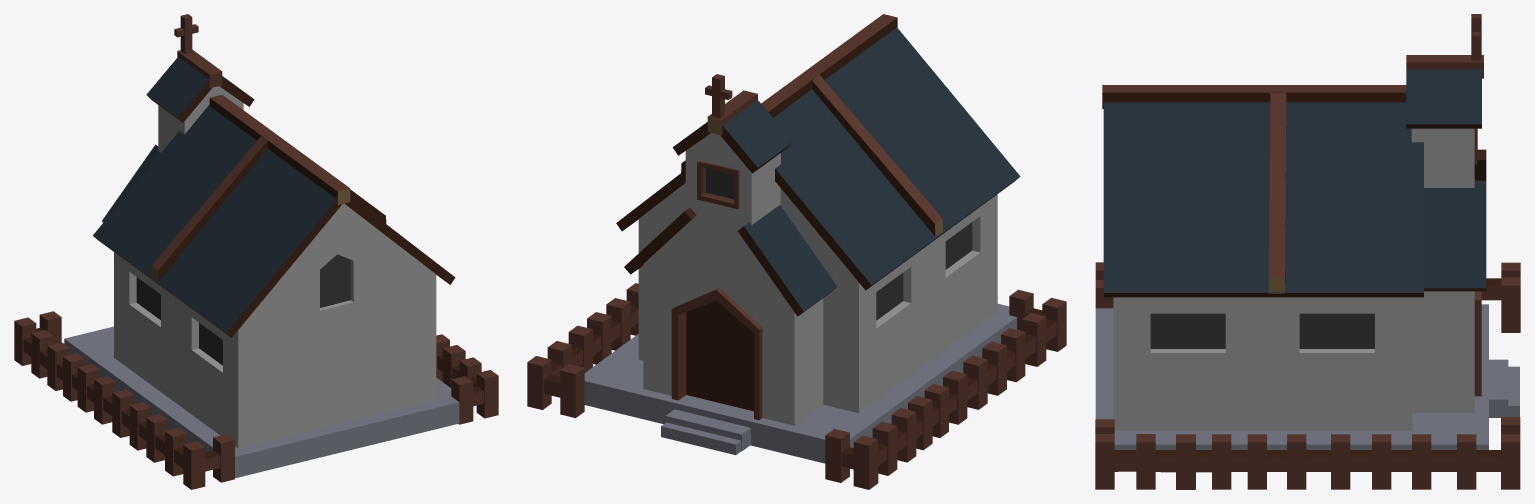
File: Church.fbx
3 renders of one model, left to right at view 1: azimuth 30°, elevation 25°; view 2: azimuth 150°, elevation 25°; view 3: azimuth 270°, elevation 25°, orthographic. The views are drawn at different scales.
Visible parts, largest first — view 1: Kosciol.001; view 2: Kosciol.001; view 3: Kosciol.001.
Part boxes in pixels (x1,y1,x2,y2): Kosciol.001: [14, 14, 498, 489]; Kosciol.001: [527, 14, 1066, 489]; Kosciol.001: [1095, 14, 1520, 489].
Bounding box in the file's own units: 1195 × 1185 × 1192.
